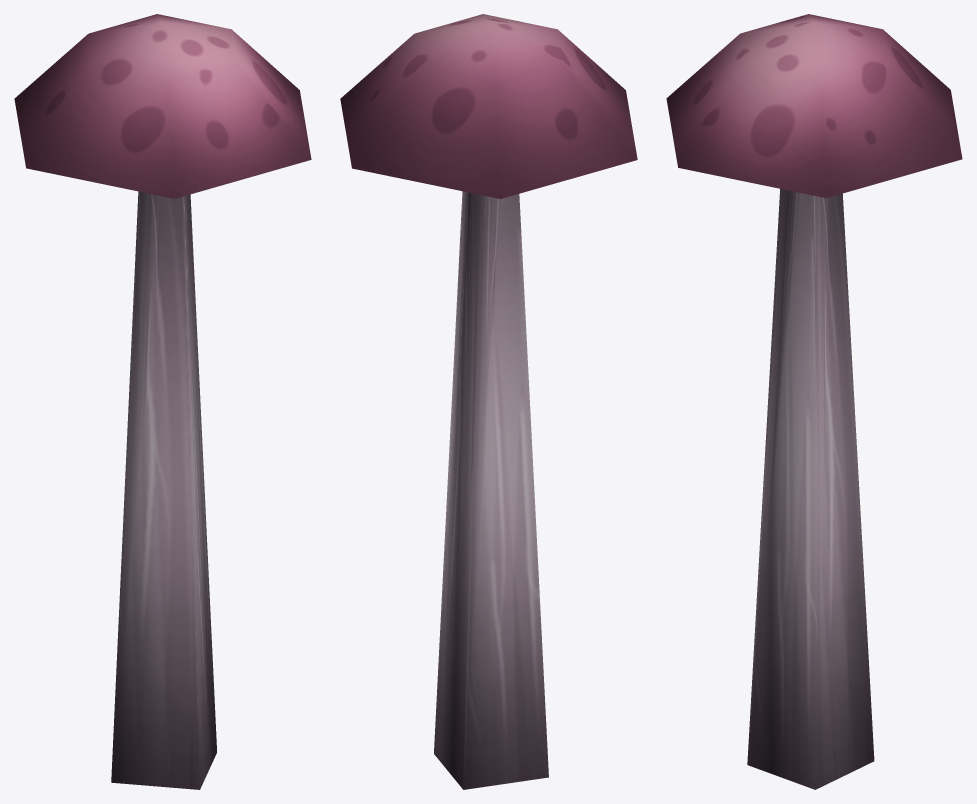
The model's file is fungus_06.fbx.
The picture shows the model from 3 angles, left to right: view 1: azimuth 30°, elevation 25°; view 2: azimuth 150°, elevation 25°; view 3: azimuth 270°, elevation 25°; orthographic projection.
Parts seen in each view (by area): view 1: fungus_06; view 2: fungus_06; view 3: fungus_06.
Boxes of the visible parts, box(x1,y1,x2,y2) form: fungus_06: box(14, 14, 311, 789); fungus_06: box(340, 14, 637, 789); fungus_06: box(666, 14, 962, 789).
Bounding box in the file's own units: 0.5828 × 1.45 × 0.5254.
